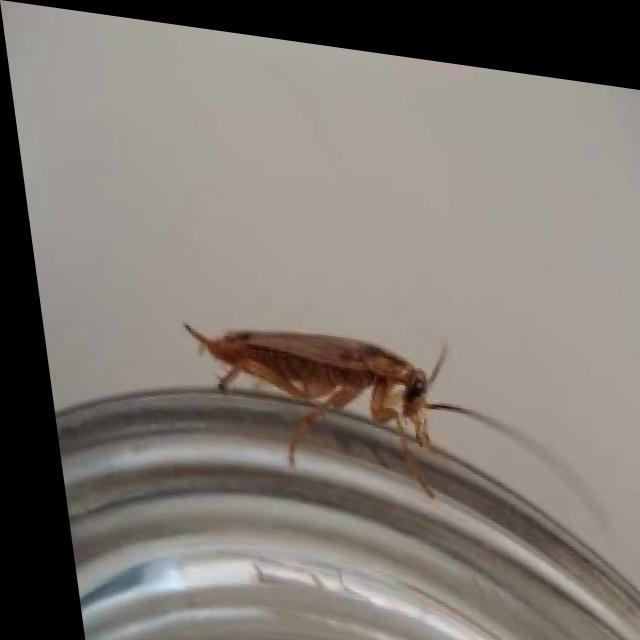cockroach: (179, 317, 459, 503)
